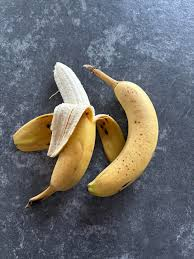banana: (11, 62, 93, 213), (83, 55, 165, 206)
